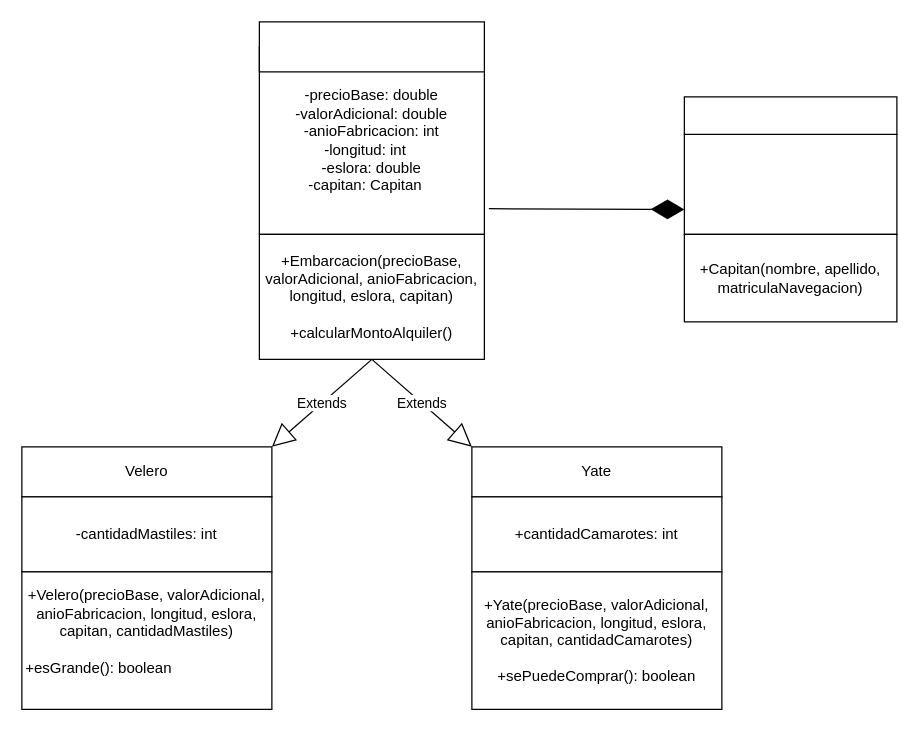
This 919x731 diagram has some shape labels left out. Each missing label, with the box of its shape:
-nombre: String -apellido: String -matriculaNavegacion:String: (683, 133, 897, 234)
Capitan: (683, 96, 897, 134)
Embarcacion: (258, 21, 484, 72)
